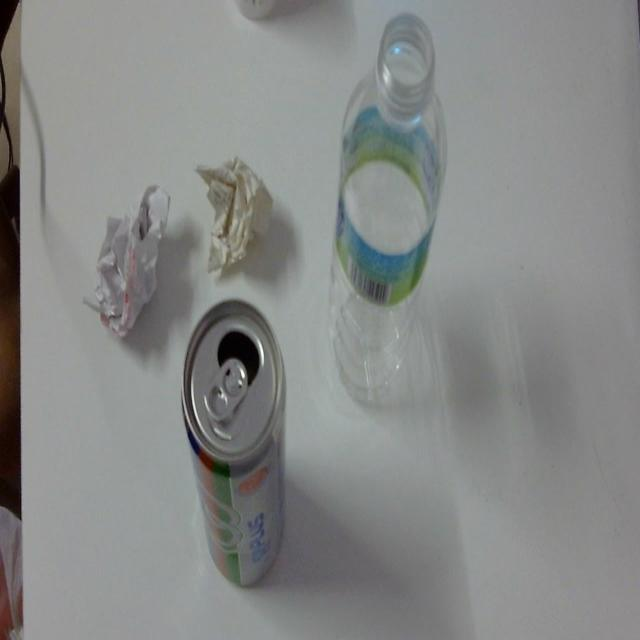metal_standrotation: (173, 290, 304, 590)
paperrotation: (85, 174, 177, 354), (188, 149, 277, 298)
plastic_standrotation: (322, 6, 452, 410)
